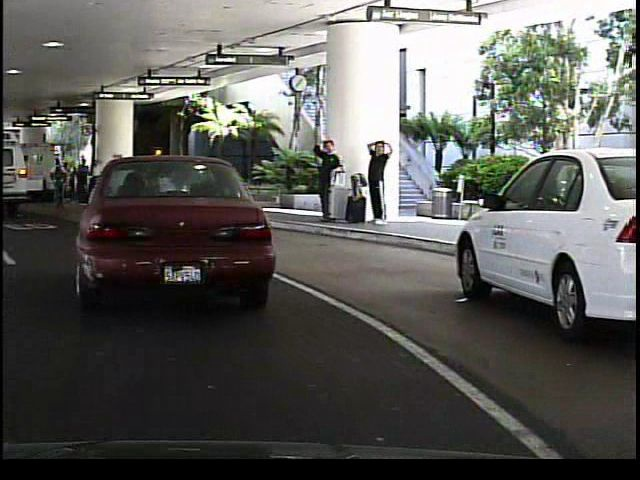person: (309, 134, 341, 222), (362, 135, 391, 228), (340, 150, 361, 219), (194, 151, 219, 207)
